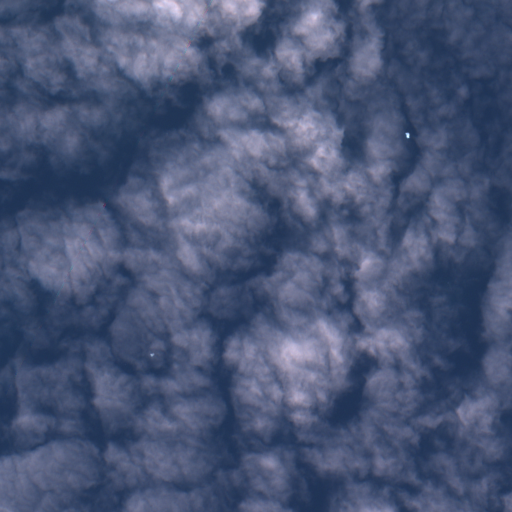Iceberg: (405, 132, 409, 138), (150, 353, 154, 356)
